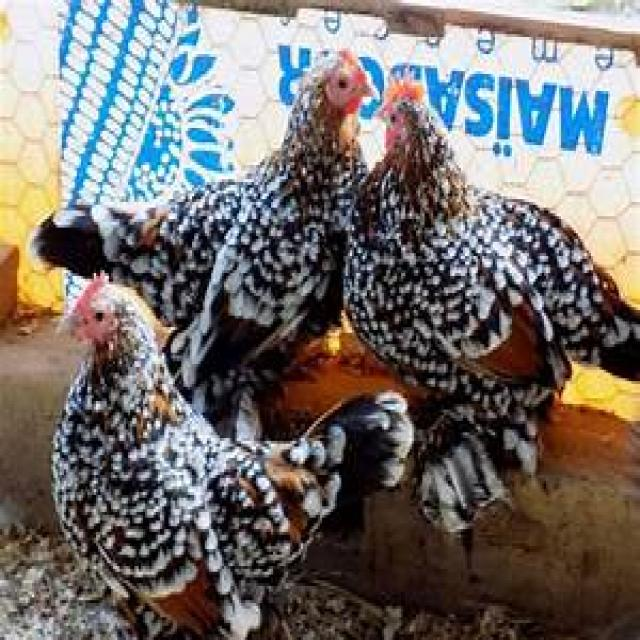hen: (35, 55, 369, 391), (52, 278, 334, 634), (345, 165, 640, 441)
